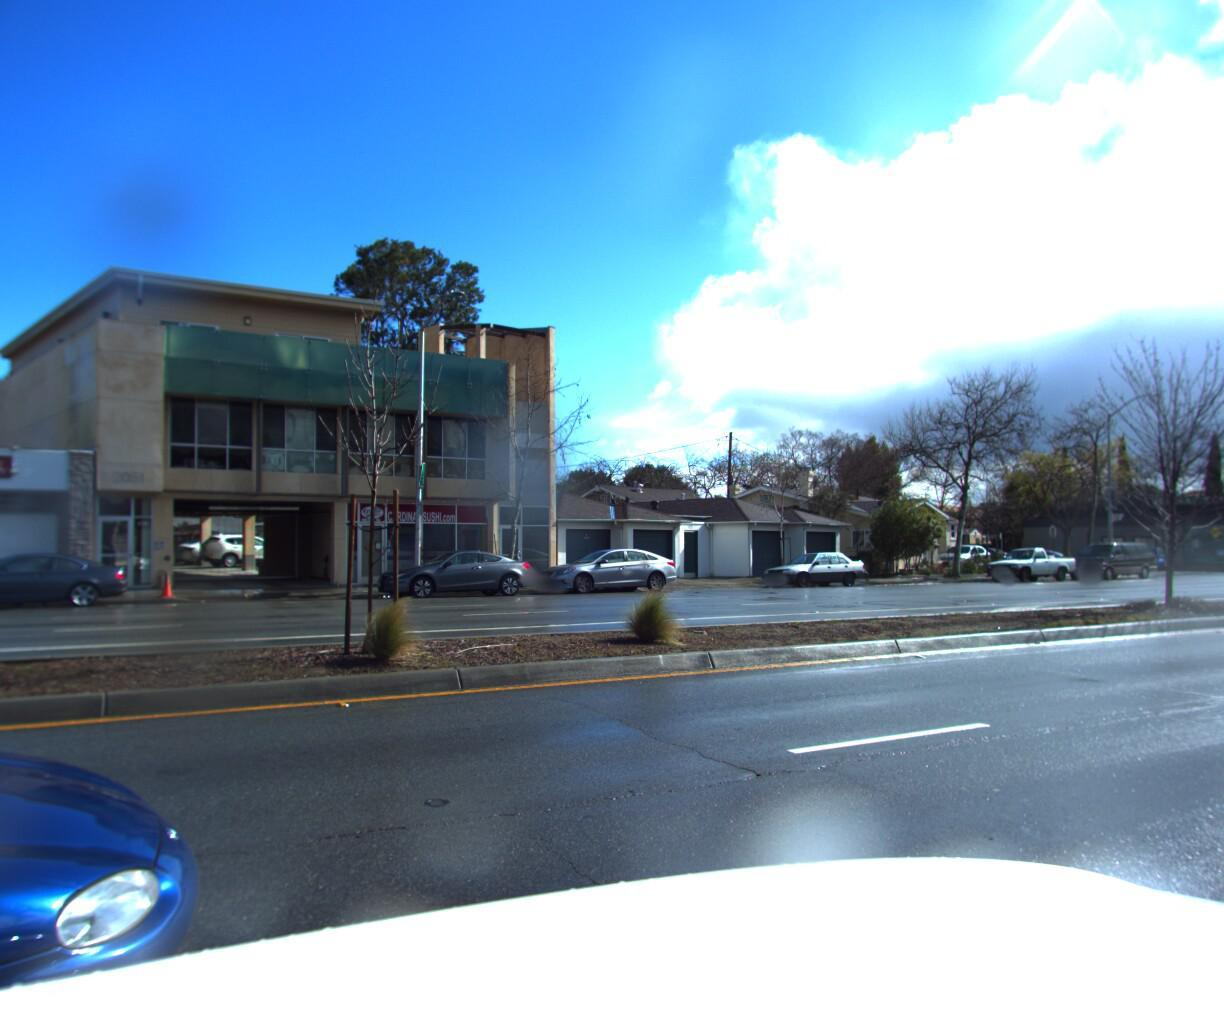car: (0, 607, 218, 1024), (366, 547, 544, 602), (0, 549, 135, 614), (527, 544, 682, 598), (751, 547, 869, 588), (972, 542, 1074, 581), (1059, 542, 1153, 578), (955, 544, 1022, 577)
